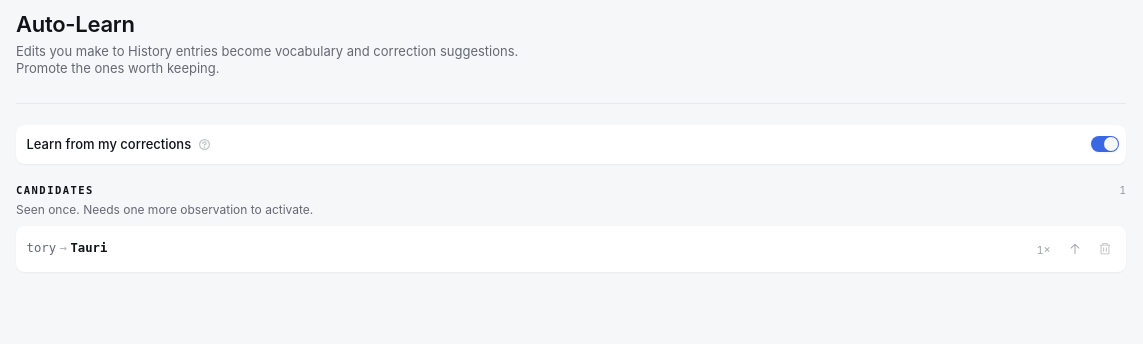
Scenario: LearnedEntriesPage – delete › optimistically removes the row and shows undo toast on delete
Expected: the text "Tauri" is shown, 70,241 -> 107,255
Click the button named "Delete Tauri" at coordinates (1105, 249), box 1091,235 -> 1119,263
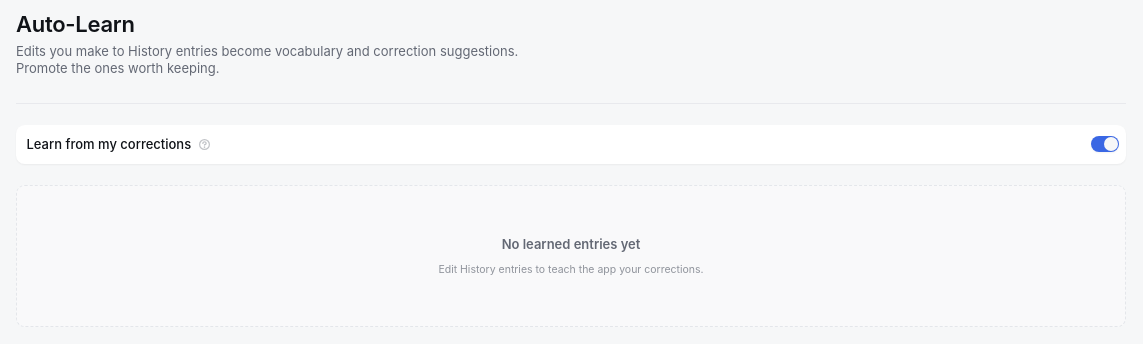
Expected: the text "Tauri" is gone
